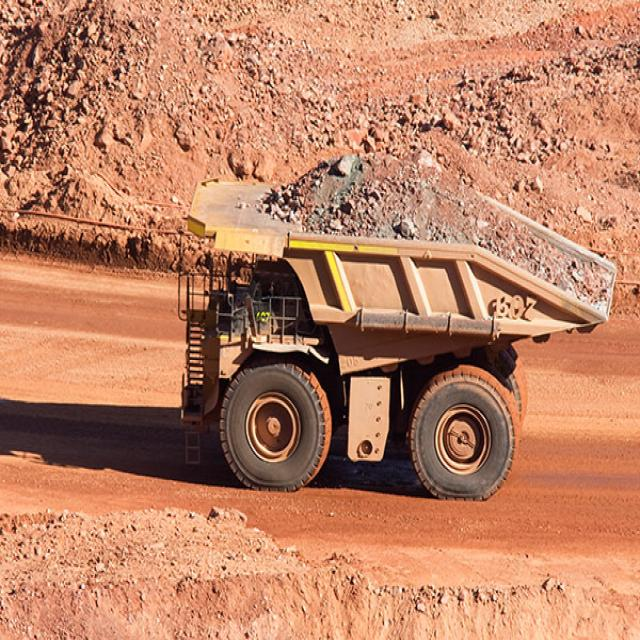dump_truck: (178, 147, 618, 503)
